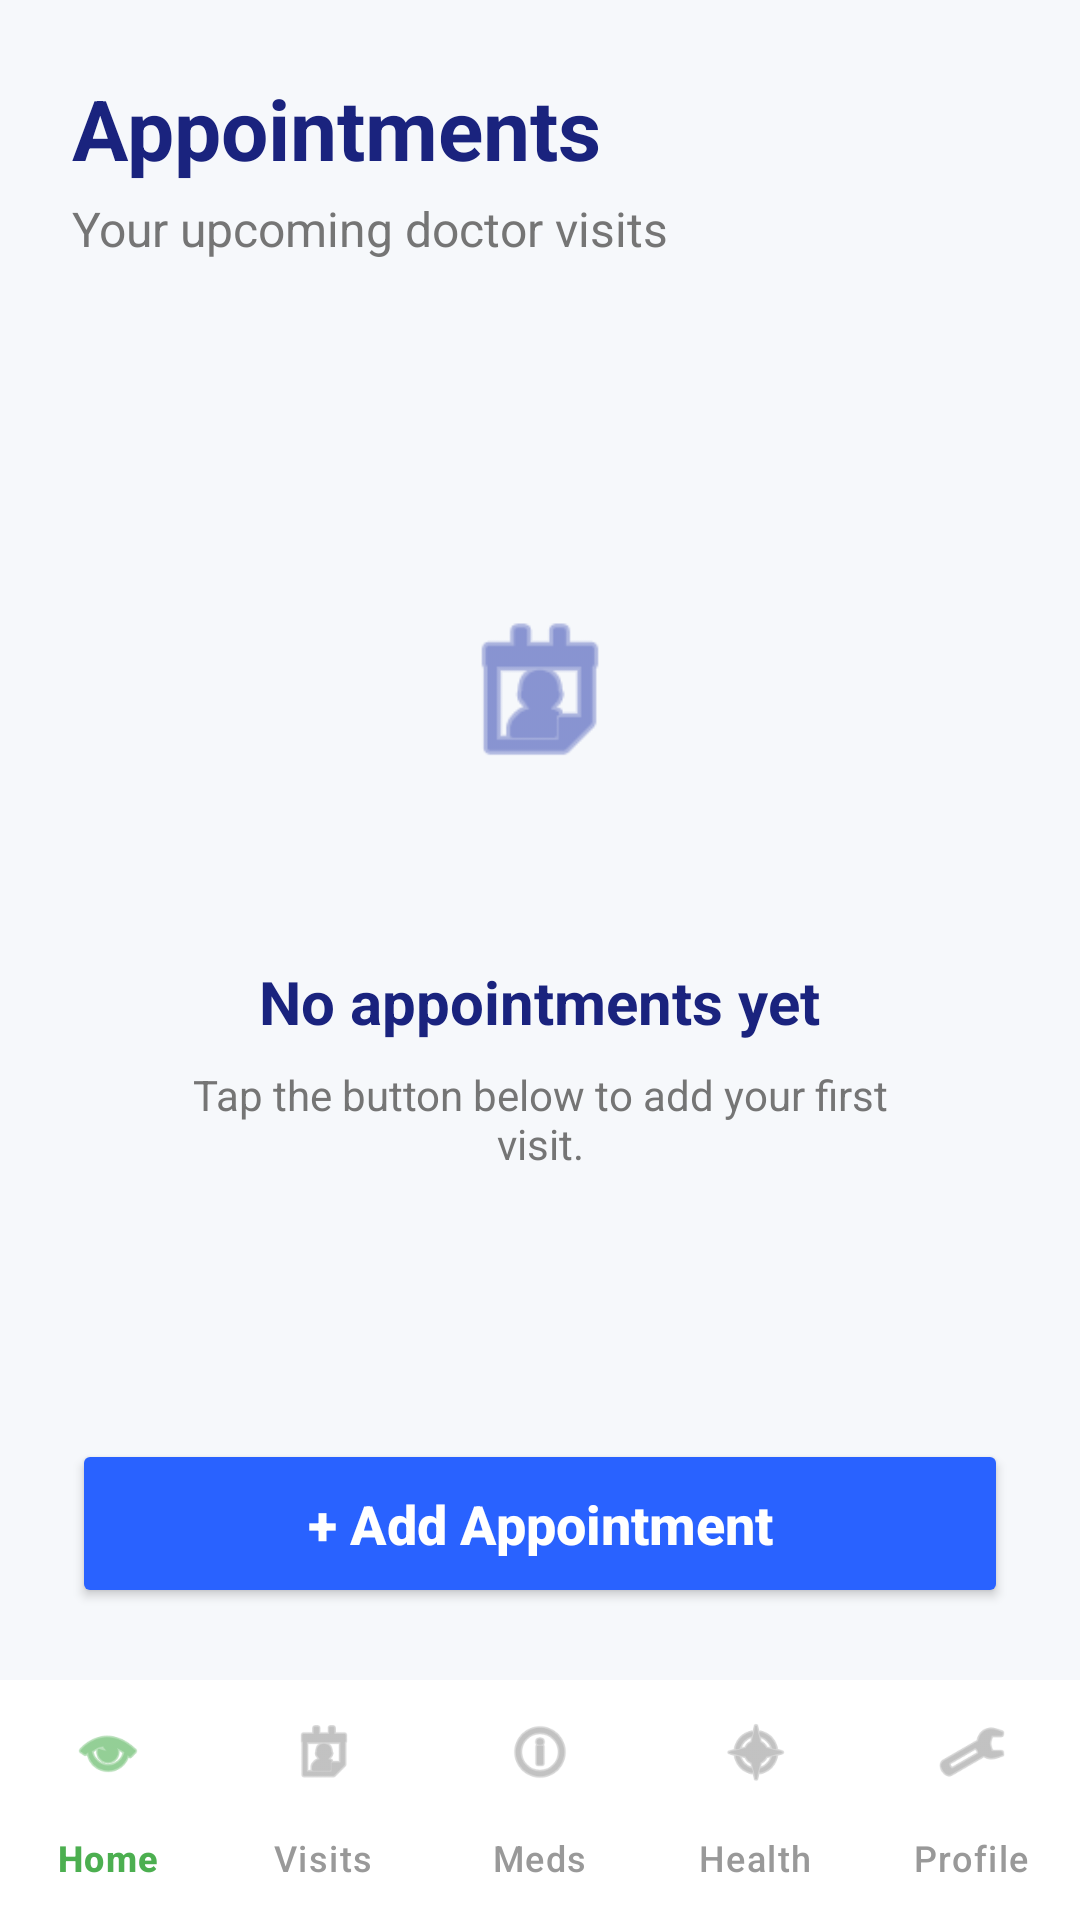

Icons on this 1080×1920 Android screen, each with the point to tap as [x,y]:
No Appointments: [540,689]
